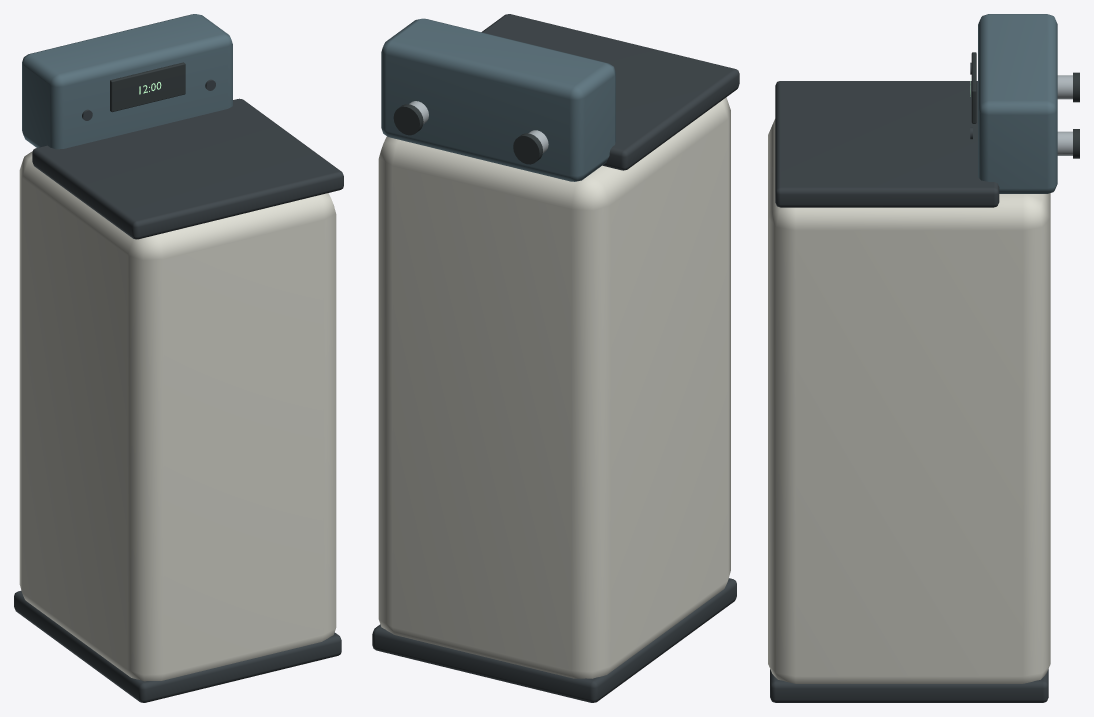
File: garage-water-softener.glb
3 views of the same model, side by side, from view 1: azimuth 30°, elevation 25°; view 2: azimuth 150°, elevation 25°; view 3: azimuth 270°, elevation 25° (orthographic). The views are drawn at different scales.
Parts seen in each view (by area): view 1: catalog_surface_RealismUV; view 2: catalog_surface_RealismUV; view 3: catalog_surface_RealismUV.
Part boxes in pixels (bbox=[...]): catalog_surface_RealismUV: bbox=[14, 14, 343, 702]; catalog_surface_RealismUV: bbox=[372, 14, 739, 702]; catalog_surface_RealismUV: bbox=[768, 14, 1079, 702].
Size of the model in its own units: 0.48 by 1.2 by 0.57.
